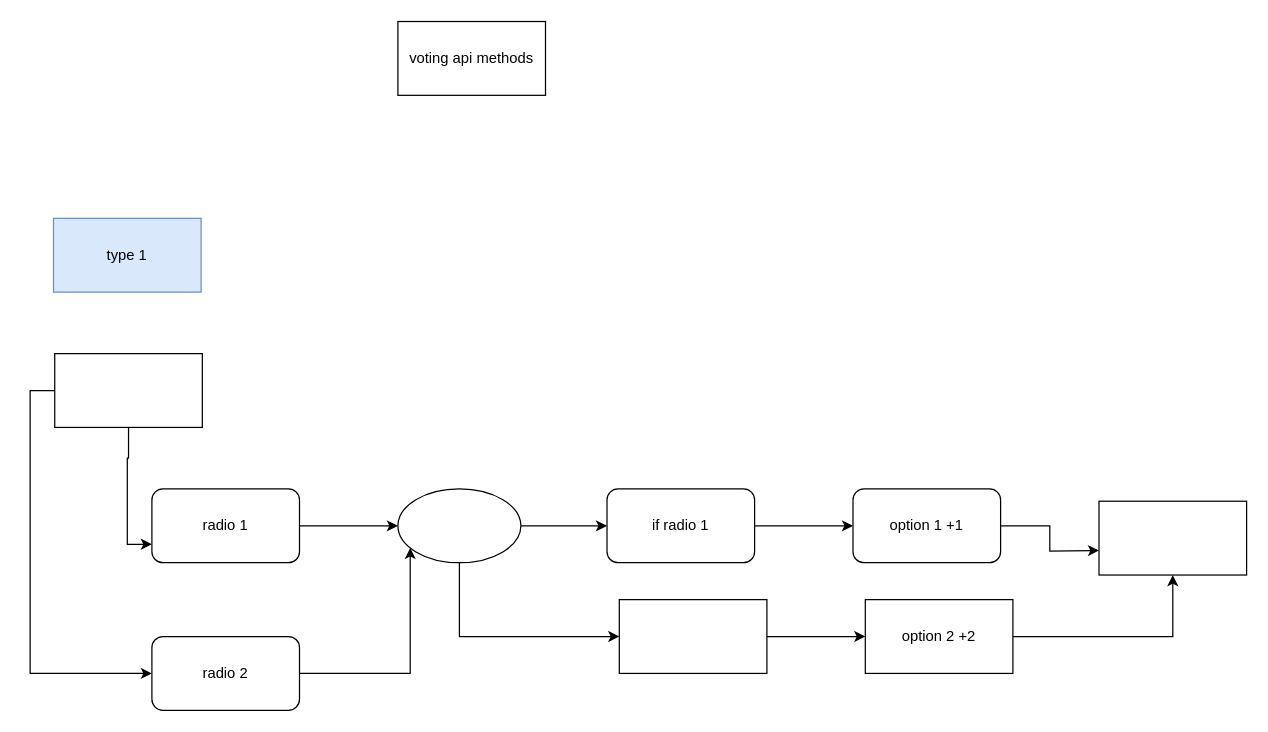
Some shapes in this 1268 by 732 pixel diagram are drawn without their labels. The centre of each missing label's shape, as x and y in pixels:
else radio 2: point (692, 635)
localhost// 3000//votingpage1 html page: point (128, 389)
submit (post: point (459, 525)
